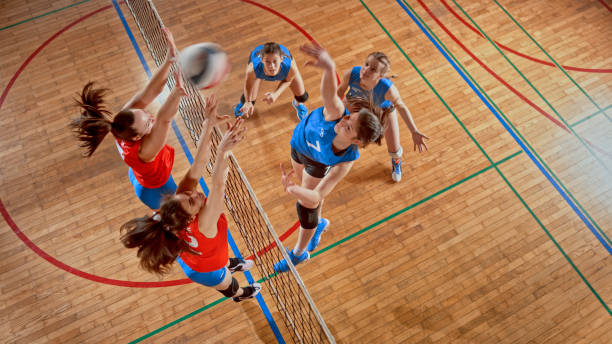ball: (178, 43, 230, 91)
player: (119, 94, 261, 302), (276, 43, 384, 273), (71, 26, 188, 212), (336, 51, 429, 182), (233, 42, 309, 122)
